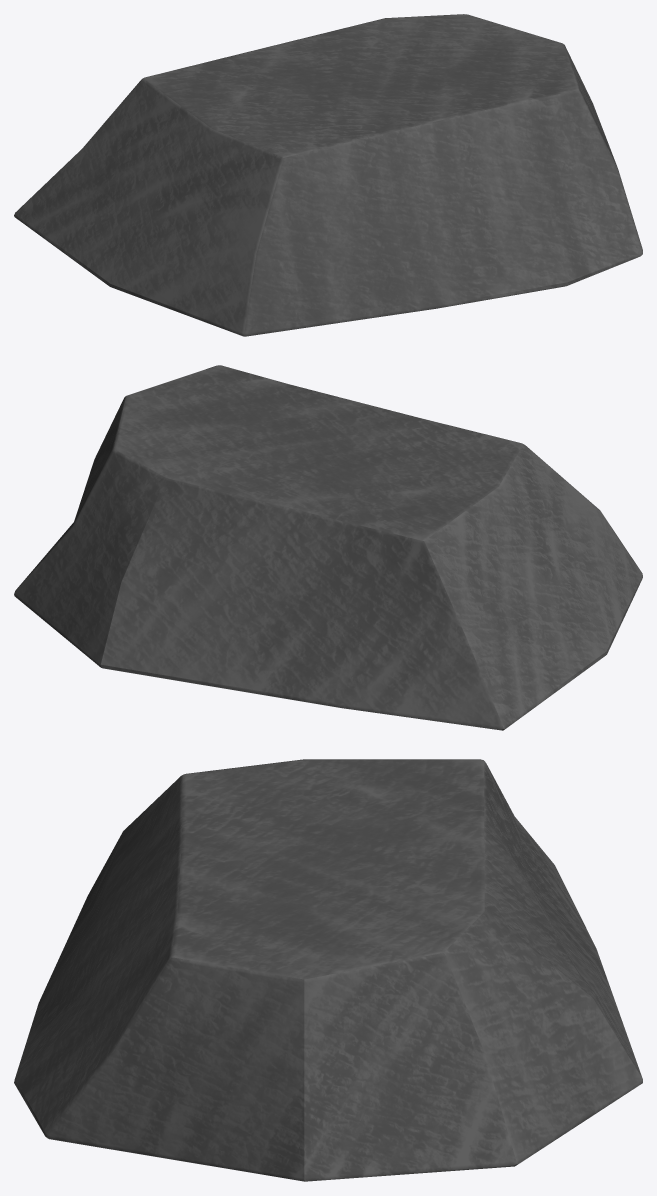
Rendered from RockB.fbx.
The picture shows the model from 3 angles, top to bottom: view 1: azimuth 30°, elevation 25°; view 2: azimuth 150°, elevation 25°; view 3: azimuth 270°, elevation 25°; orthographic projection. The views are drawn at different scales.
Parts seen in each view (by area): view 1: pCube2; view 2: pCube2; view 3: pCube2.
Part boxes in pixels (box(x1,y1,x2,y2)): pCube2: box(14, 14, 642, 336); pCube2: box(14, 365, 642, 730); pCube2: box(14, 759, 642, 1181).
Bounding box in the file's own units: 10.36 × 2.67 × 8.75.
